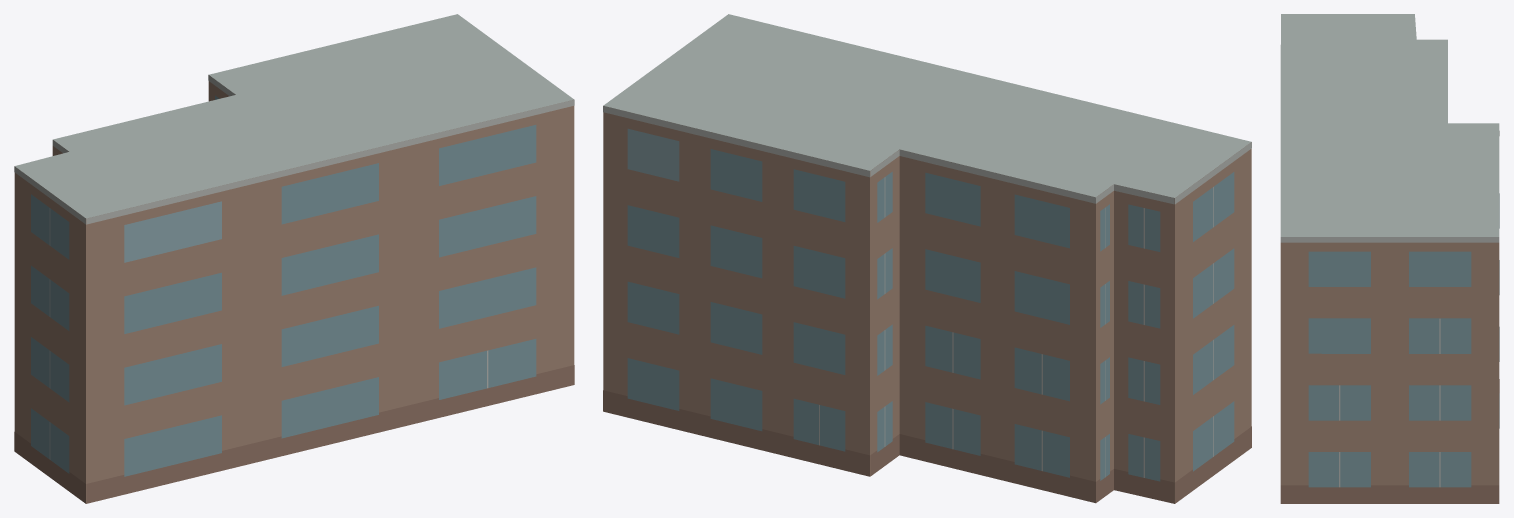
Rendered from survey-upis-32607839.glb.
3 views of the same model, side by side, from view 1: azimuth 30°, elevation 25°; view 2: azimuth 150°, elevation 25°; view 3: azimuth 270°, elevation 25° (orthographic). The views are drawn at different scales.
Visible parts, largest first — view 1: survey-upis-32607839.tmp; view 2: survey-upis-32607839.tmp; view 3: survey-upis-32607839.tmp.
Part boxes in pixels (left/top/right/bottom): survey-upis-32607839.tmp: left=14, top=14, right=574, bottom=503; survey-upis-32607839.tmp: left=603, top=14, right=1251, bottom=503; survey-upis-32607839.tmp: left=1280, top=14, right=1499, bottom=503.
Bounding box in the file's own units: 20.52 × 11.45 × 8.52.
